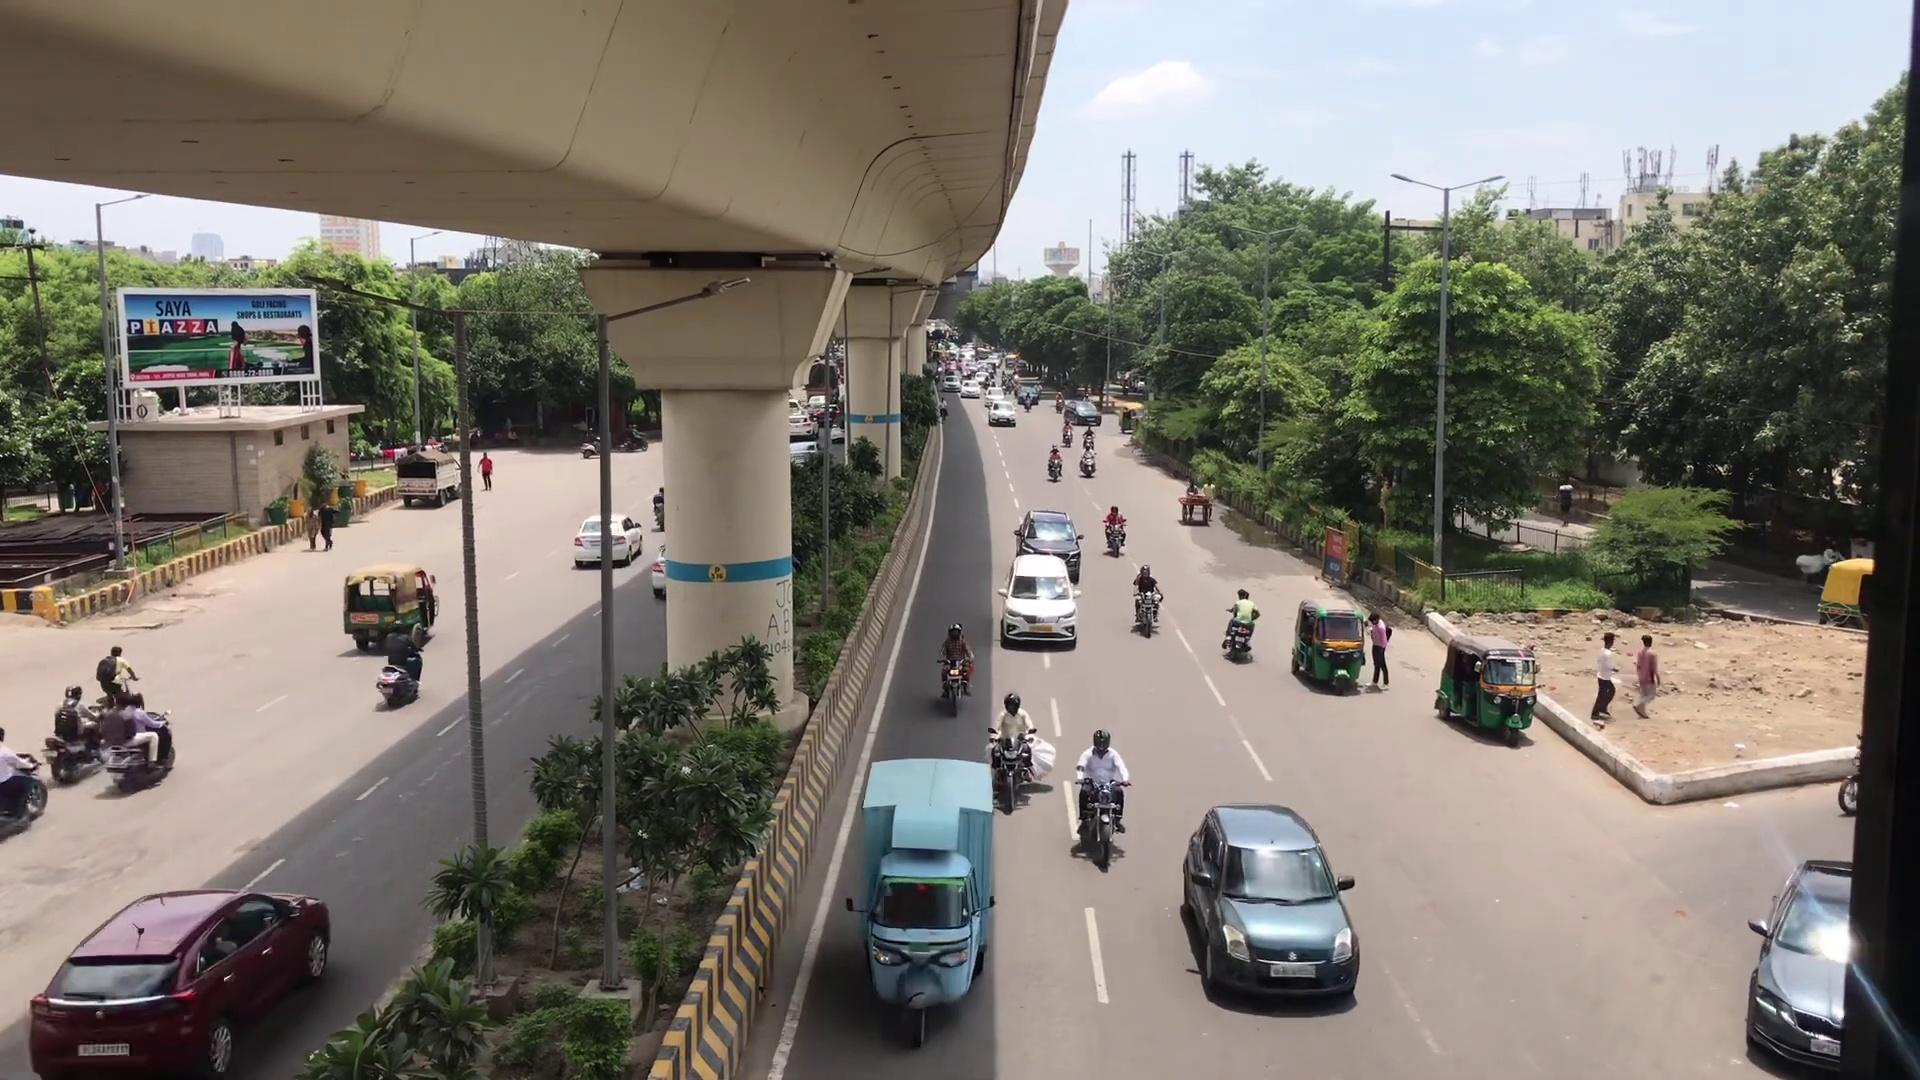Auto: (843, 752, 994, 1063), (1439, 632, 1540, 749), (339, 559, 436, 650), (1290, 595, 1367, 694)
Bike: (1072, 719, 1130, 869), (96, 690, 178, 794), (989, 684, 1035, 814), (932, 616, 973, 719), (1222, 585, 1261, 666), (1130, 559, 1163, 638), (1101, 501, 1130, 560)
Car: (1183, 803, 1357, 1001), (1742, 849, 1853, 1072)
